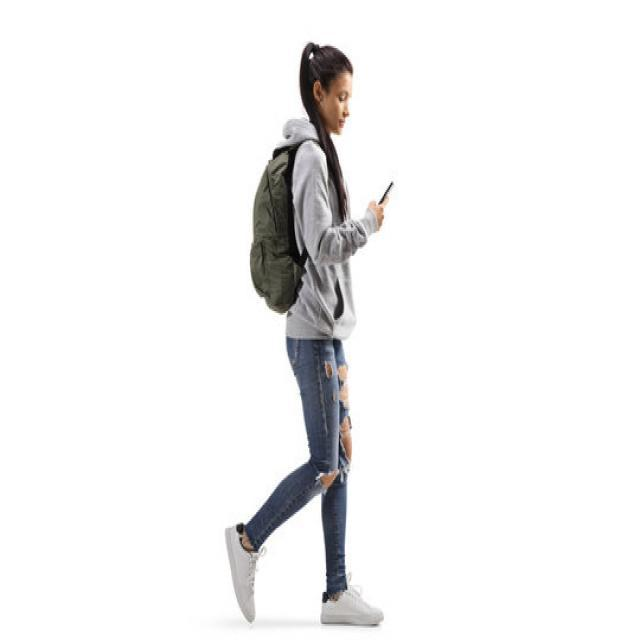Backpacks: (244, 128, 310, 318)
